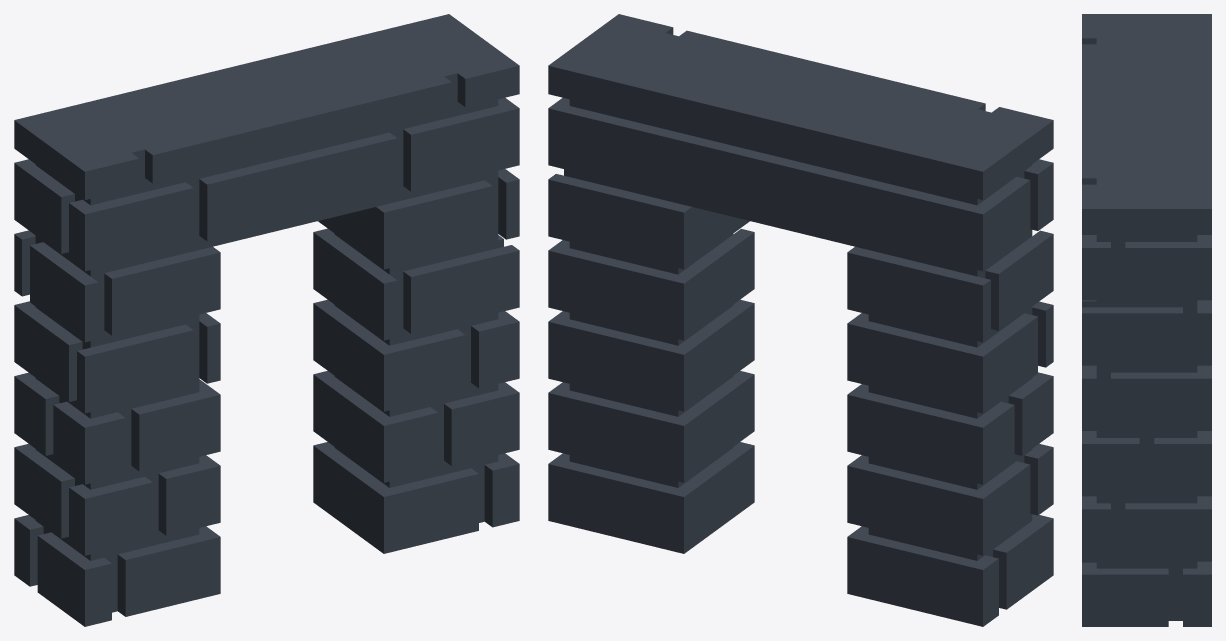
The model's file is doorwall.obj.
3 renders of one model, left to right at view 1: azimuth 30°, elevation 25°; view 2: azimuth 150°, elevation 25°; view 3: azimuth 270°, elevation 25°, orthographic. The views are drawn at different scales.
Size of the model in its own units: 3.2 by 3.2 by 0.9.
Materials: 1 (1 with a texture image).
